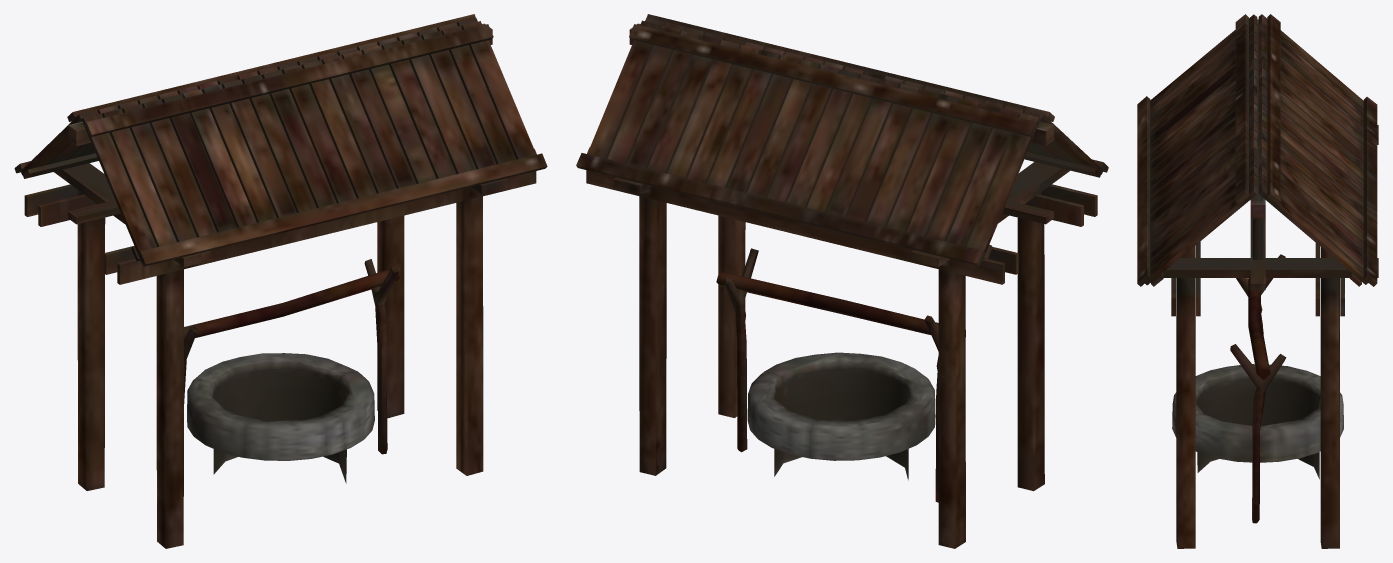
The model's file is well_489.glb.
3 renders of one model, left to right at view 1: azimuth 30°, elevation 25°; view 2: azimuth 150°, elevation 25°; view 3: azimuth 270°, elevation 25°, orthographic. The views are drawn at different scales.
Parts seen in each view (by area): view 1: well_489; view 2: well_489; view 3: well_489.
Part boxes in pixels (box(x1,y1,x2,y2)): well_489: box(14, 14, 547, 548); well_489: box(576, 14, 1108, 548); well_489: box(1137, 14, 1378, 548).
Size of the model in its own units: 2.23 by 2.1 by 1.23.
Materials: 1 (1 with a texture image).
